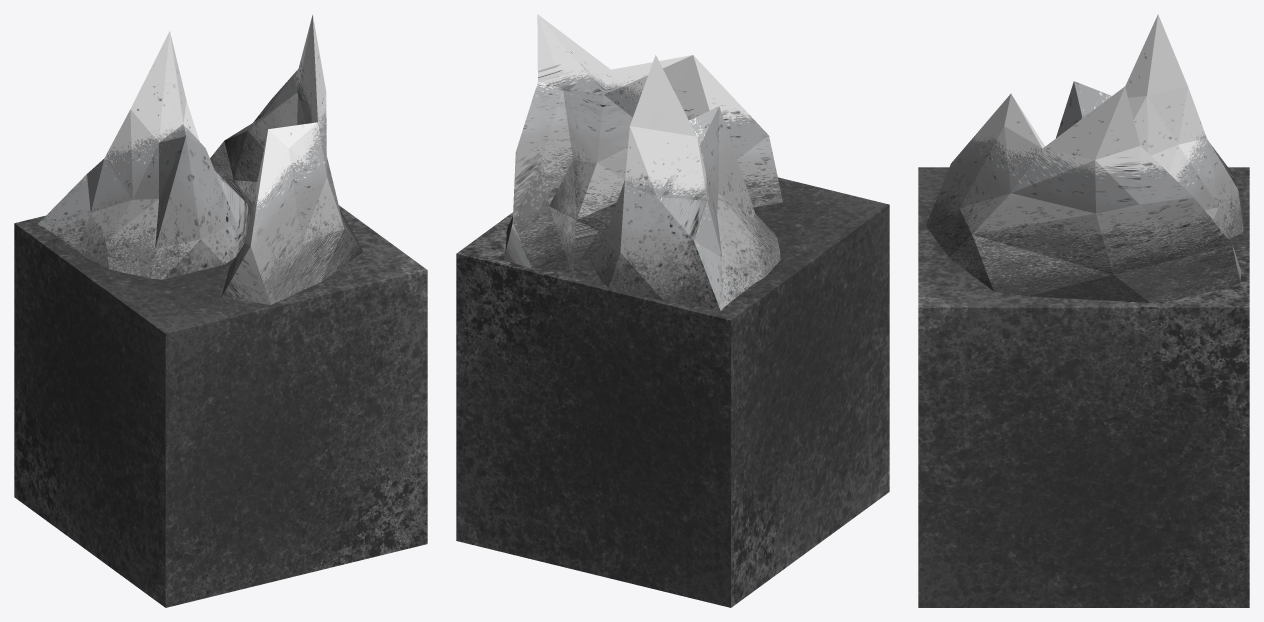
File: Gorski tile 1.fbx
3 views of the same model, side by side, from view 1: azimuth 30°, elevation 25°; view 2: azimuth 150°, elevation 25°; view 3: azimuth 270°, elevation 25° (orthographic). The views are drawn at different scales.
Parts seen in each view (by area): view 1: Icosphere.001; view 2: Icosphere.001; view 3: Icosphere.001.
Part boxes in pixels (x1,y1,x2,y2): Icosphere.001: (14, 14, 427, 607); Icosphere.001: (456, 14, 889, 607); Icosphere.001: (918, 14, 1249, 607).
Bounding box in the file's own units: 200 × 343 × 200.
